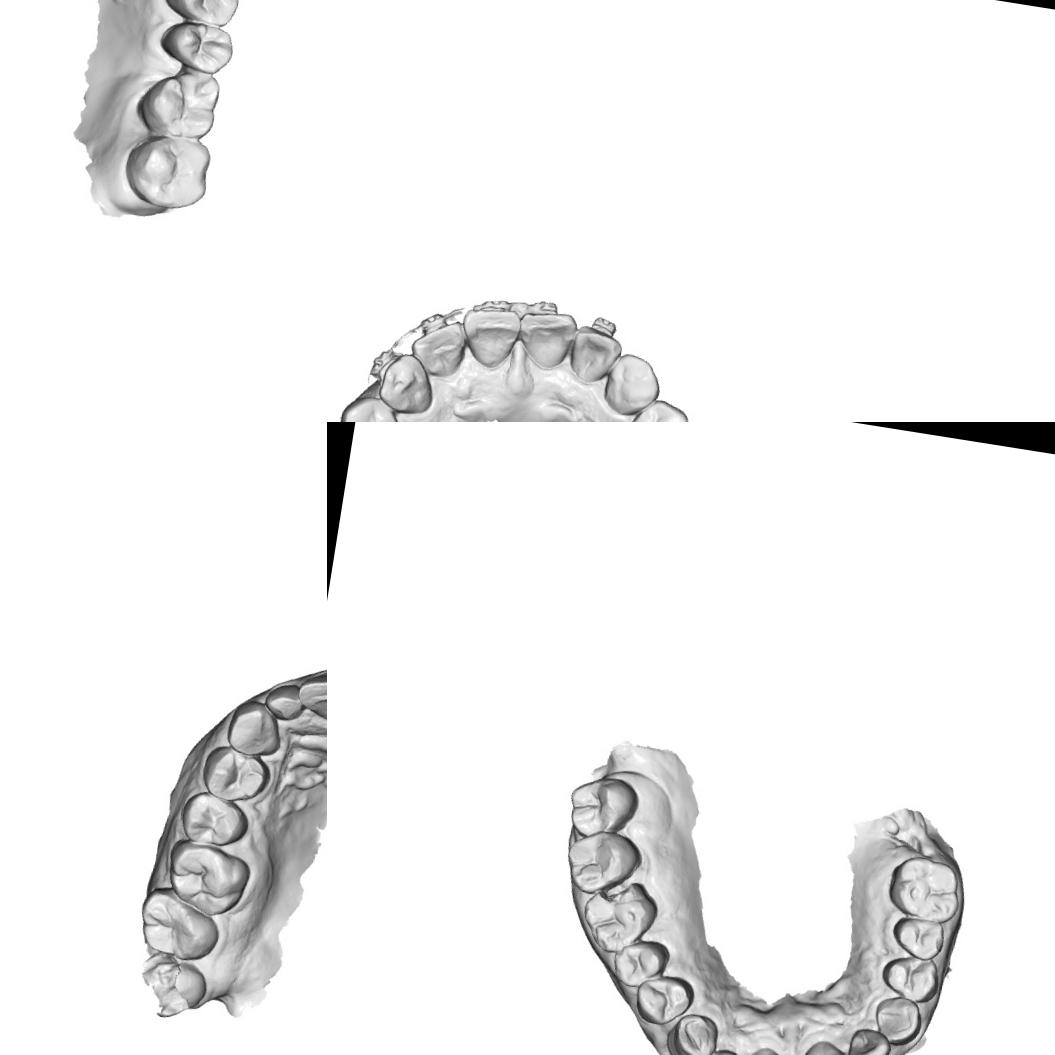canine: (598, 348, 666, 422), (220, 694, 288, 762), (374, 348, 439, 418), (870, 992, 926, 1050), (664, 1008, 724, 1055)
incisor: (455, 302, 526, 375), (510, 304, 581, 376), (406, 313, 474, 383), (565, 322, 627, 388), (260, 676, 312, 725), (789, 1029, 861, 1055), (295, 664, 327, 719), (843, 1024, 896, 1055), (734, 1039, 808, 1055), (704, 1040, 754, 1055)
molar: (117, 128, 218, 218), (160, 837, 254, 923), (573, 871, 662, 960), (132, 882, 225, 967), (133, 62, 226, 144), (559, 822, 646, 902), (882, 850, 966, 928), (563, 770, 643, 844)
premolar: (154, 12, 239, 78), (198, 740, 276, 808), (175, 788, 253, 852), (627, 968, 697, 1032), (606, 934, 673, 994), (877, 949, 942, 1006), (887, 908, 950, 963), (334, 389, 410, 422), (160, 0, 243, 30), (618, 393, 695, 422)
